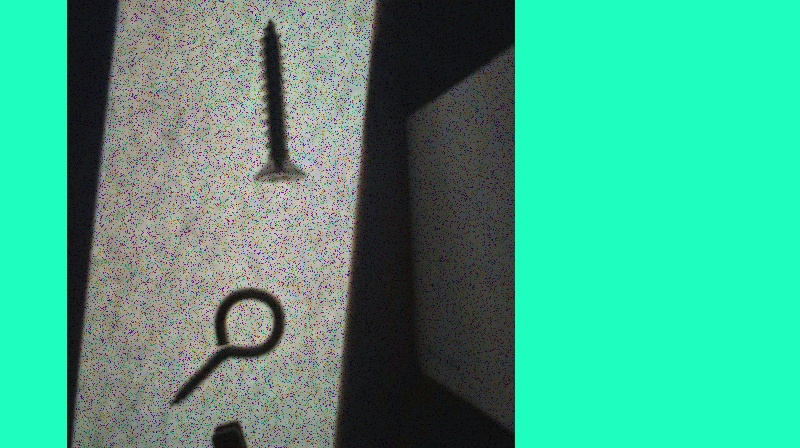O001: (169, 281, 289, 410)
O002: (84, 419, 264, 447)
S001: (246, 15, 306, 186)
